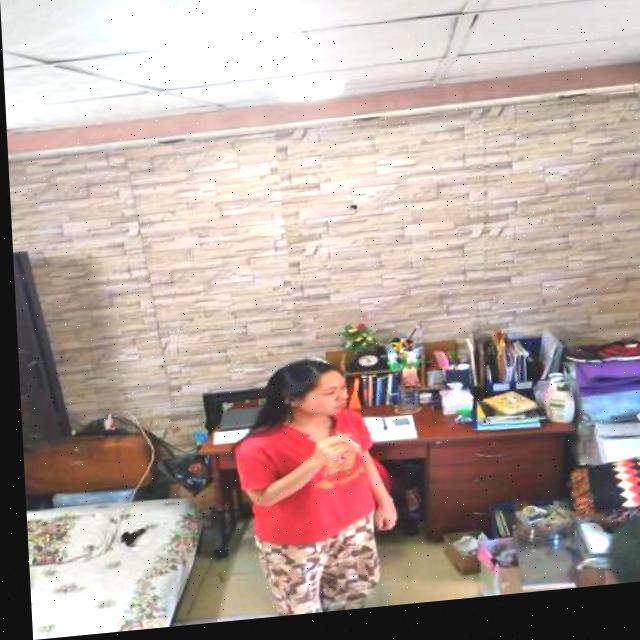cigarette: (330, 435, 354, 456)
